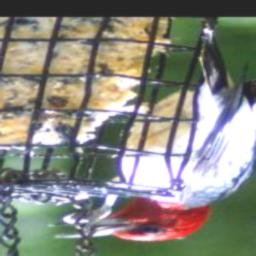Woodpecker: (43, 18, 256, 244)
